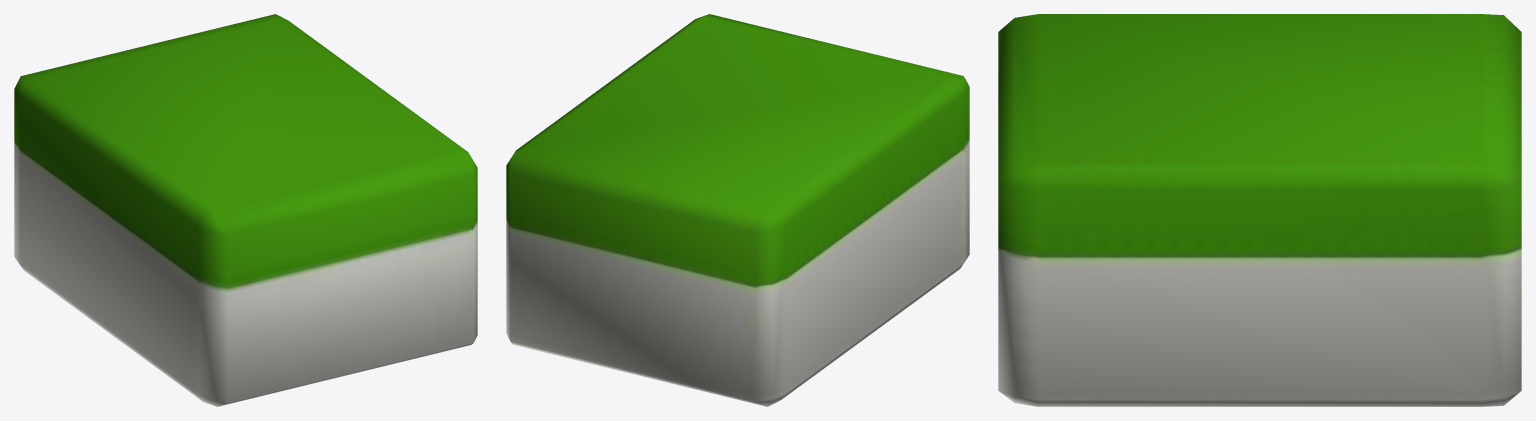
The model's file is Mahjong.fbx.
3 renders of one model, left to right at view 1: azimuth 30°, elevation 25°; view 2: azimuth 150°, elevation 25°; view 3: azimuth 270°, elevation 25°, orthographic. The views are drawn at different scales.
Parts seen in each view (by area): view 1: Mahjong_Dong, Mahjong_Nan; view 2: Mahjong_Nan, Mahjong_Dong; view 3: Mahjong_Nan, Mahjong_Dong.
Part boxes in pixels (bbox=[...]): Mahjong_Dong: bbox=[14, 76, 477, 402]; Mahjong_Nan: bbox=[20, 14, 477, 406]; Mahjong_Nan: bbox=[506, 78, 969, 401]; Mahjong_Dong: bbox=[506, 14, 969, 406]; Mahjong_Nan: bbox=[998, 14, 1521, 406]; Mahjong_Dong: bbox=[998, 14, 1521, 406].
Bounding box in the file's own units: 4 × 2.73 × 5.31.
